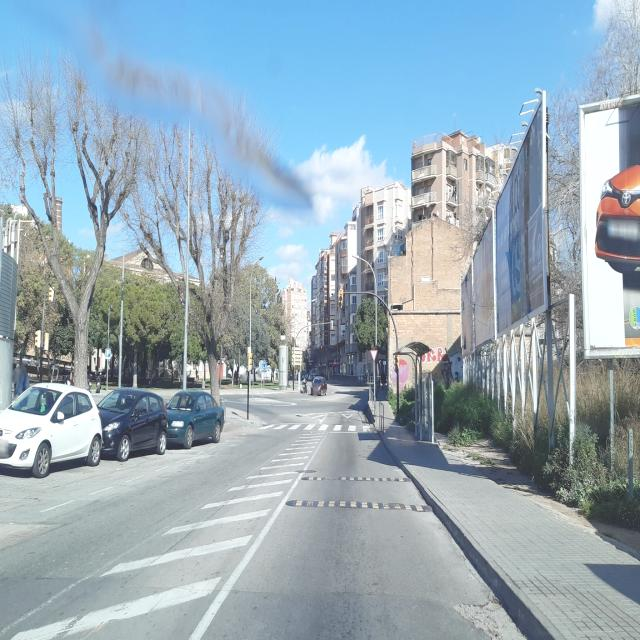car: (0, 382, 103, 478), (96, 386, 168, 461), (165, 388, 225, 448), (311, 376, 327, 396)
